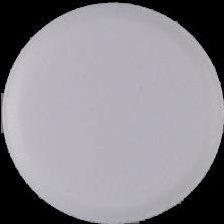0069-1540: (0, 0, 224, 224)
